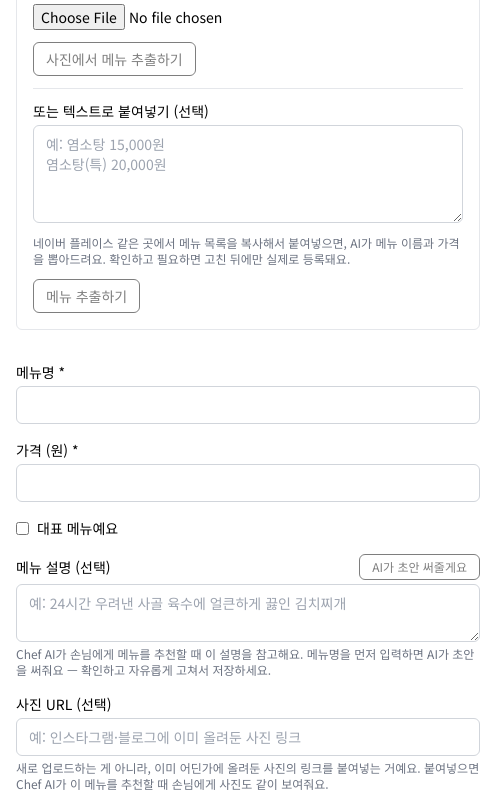
Scenario: MenusPage (smoke) › fills the description field with an AI draft based on the typed menu name
(page scrolled)
Expected: the button "AI가 초안 써줄게요" is disabled, [359, 554, 480, 580]
In the field labelled "메뉴명 *": (248, 405) [16, 386, 480, 424], type "김치찌개"
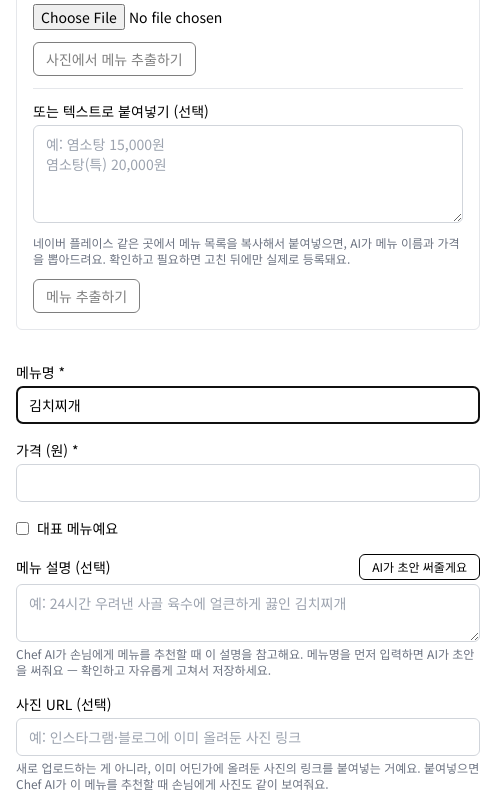
Expected: the button "AI가 초안 써줄게요" is enabled
Click the button "AI가 초안 써줄게요": (420, 567) [359, 554, 480, 580]
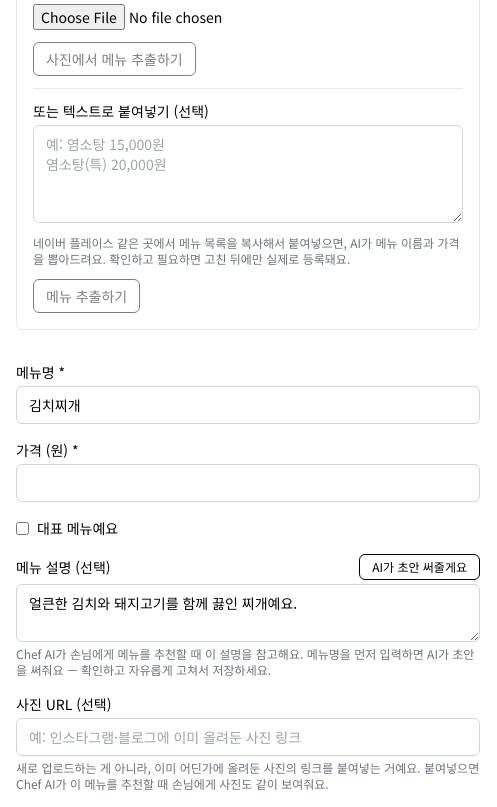
Expected: the text box showing "얼큰한 김치와 돼지고기를 함께 끓인 찌개예요." is shown, [16, 584, 480, 642]
